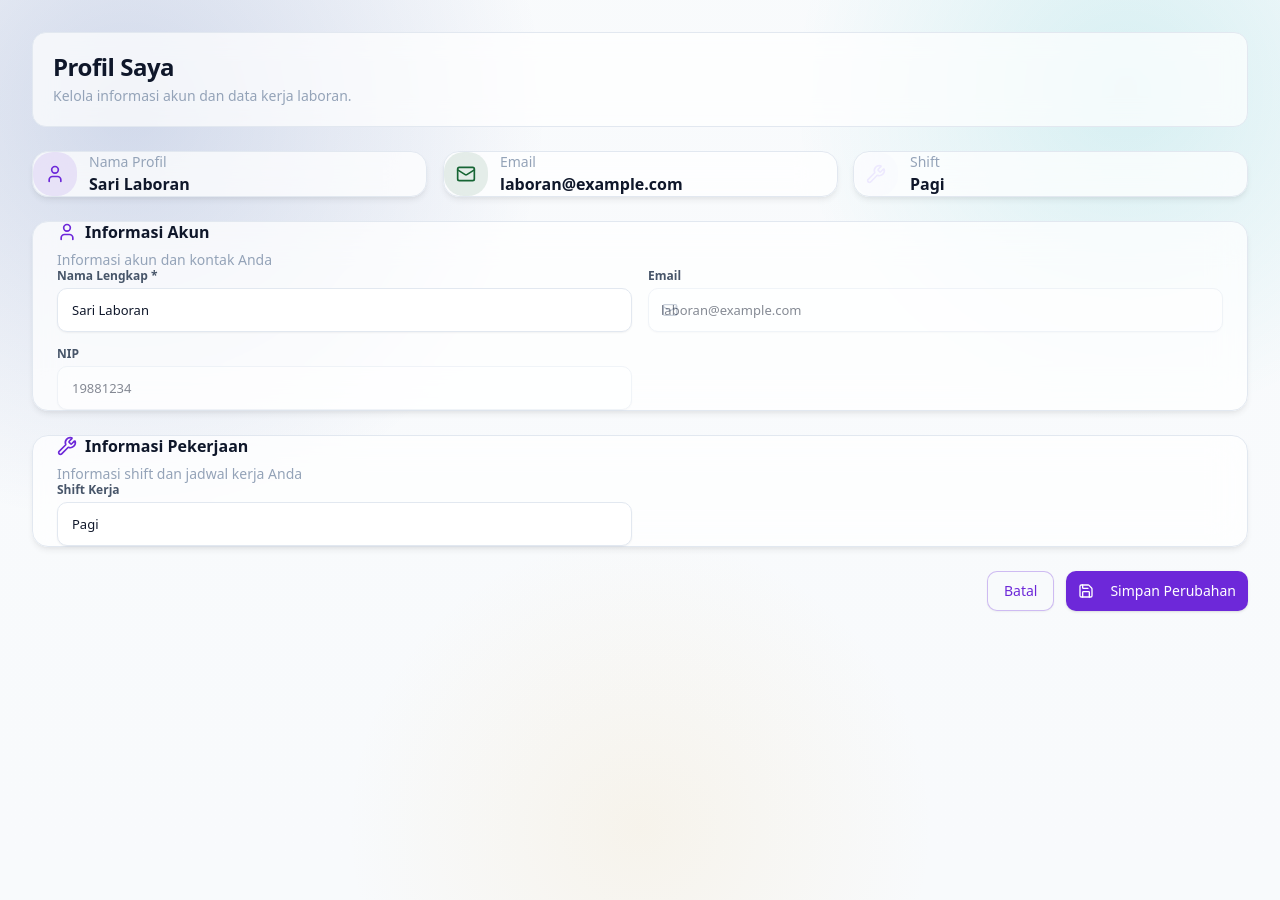
Test: Laboran ProfilePage › menyimpan perubahan profil laboran
This screenshot has width=1280, height=900.
Expected: the field showing "Sari Laboran" is shown, [57,288,632,332]
Replace the text in the field labelled "Shift Kerja" with "Malam": (344, 524) [57,502,632,546]
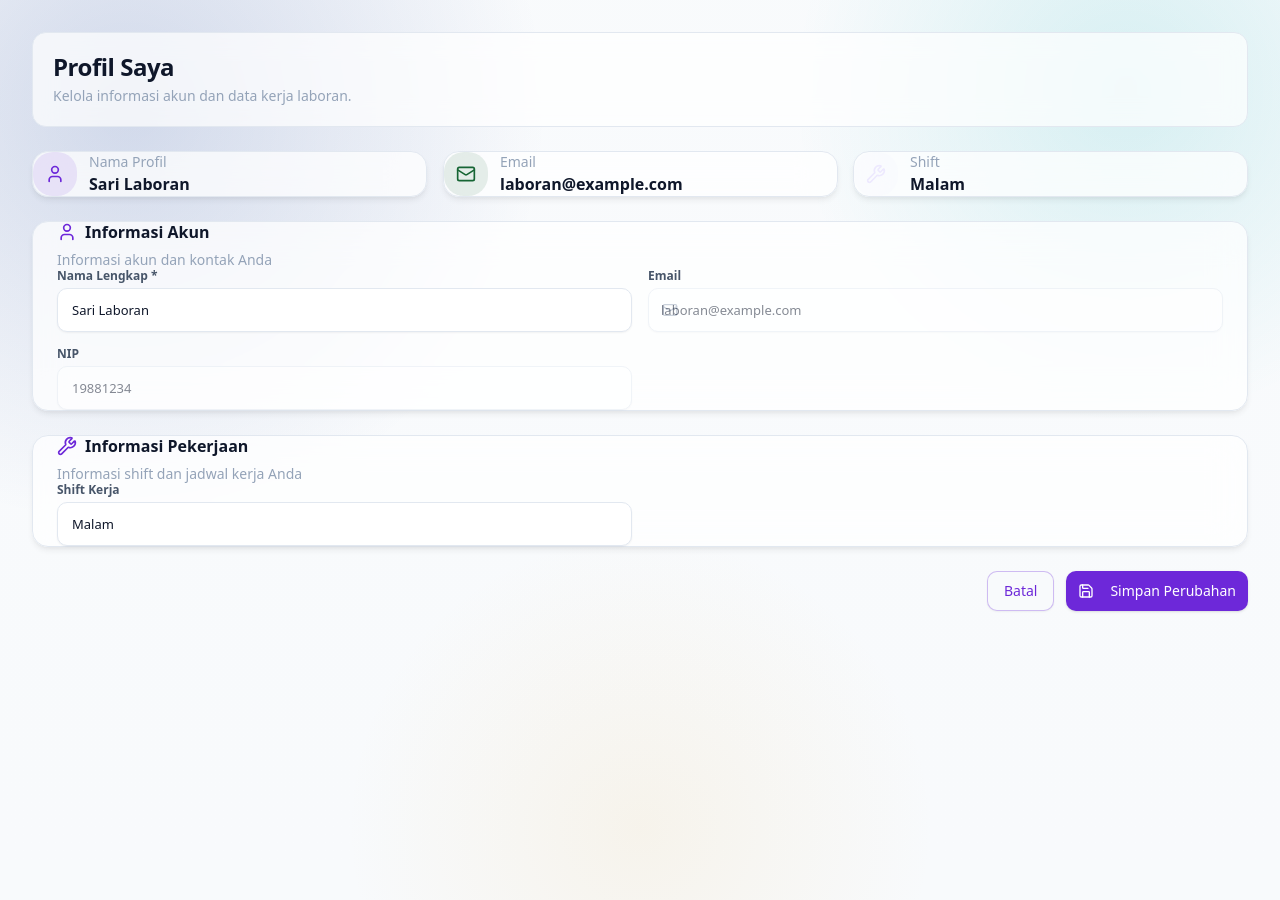
Click the button "Simpan Perubahan": (1157, 591) [1066,571,1248,611]
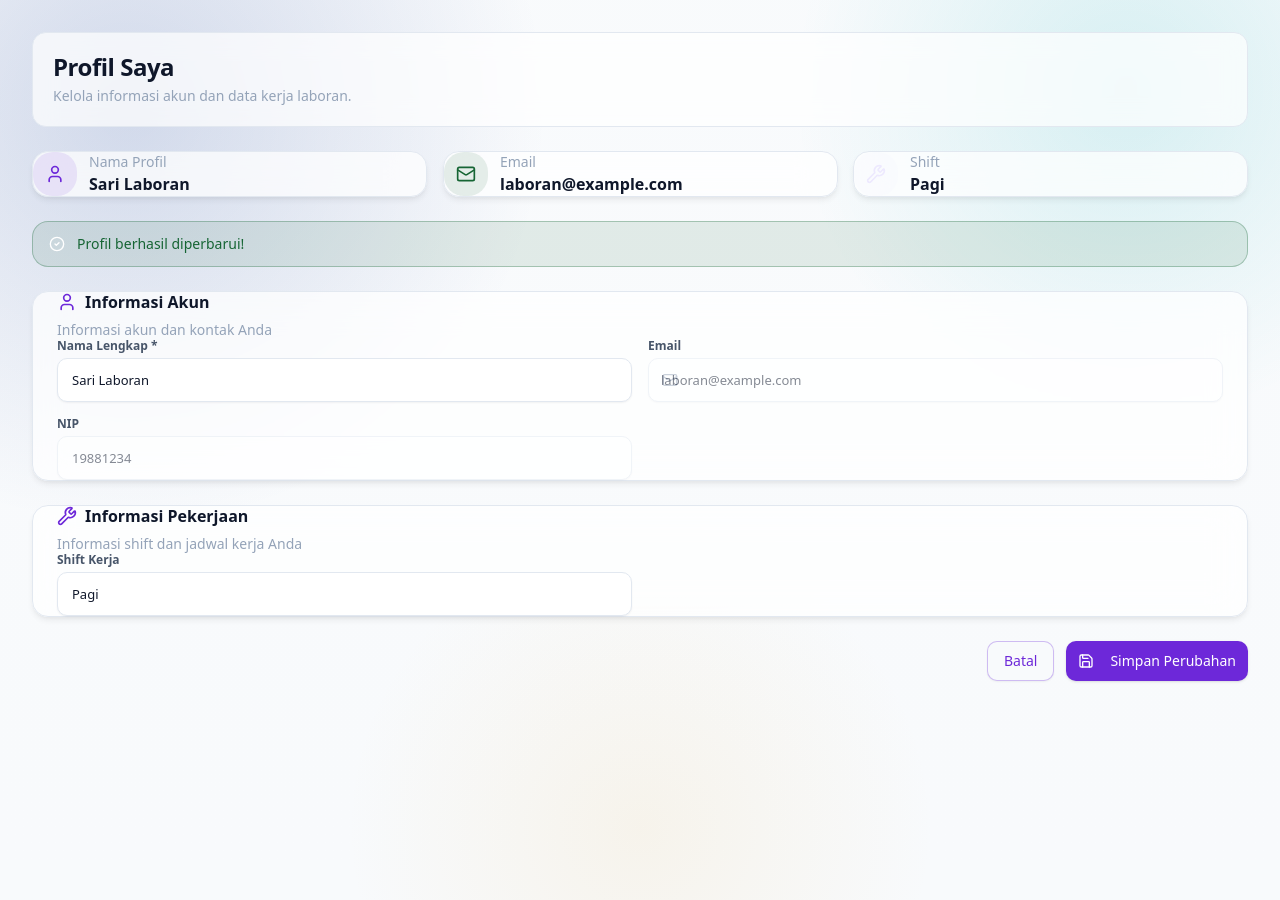
Expected: the text "Profil berhasil diperbarui!" is shown, [77,234,244,253]
